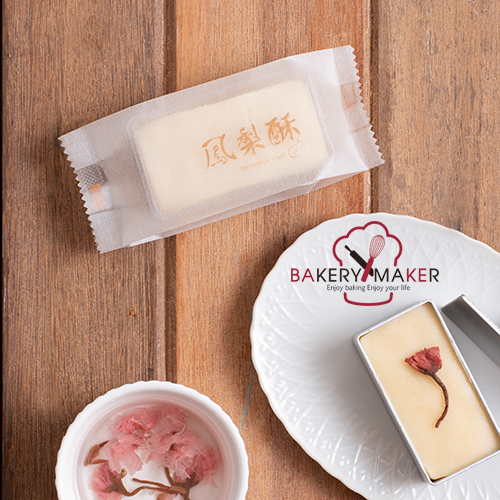Snack: (56, 44, 394, 256)
